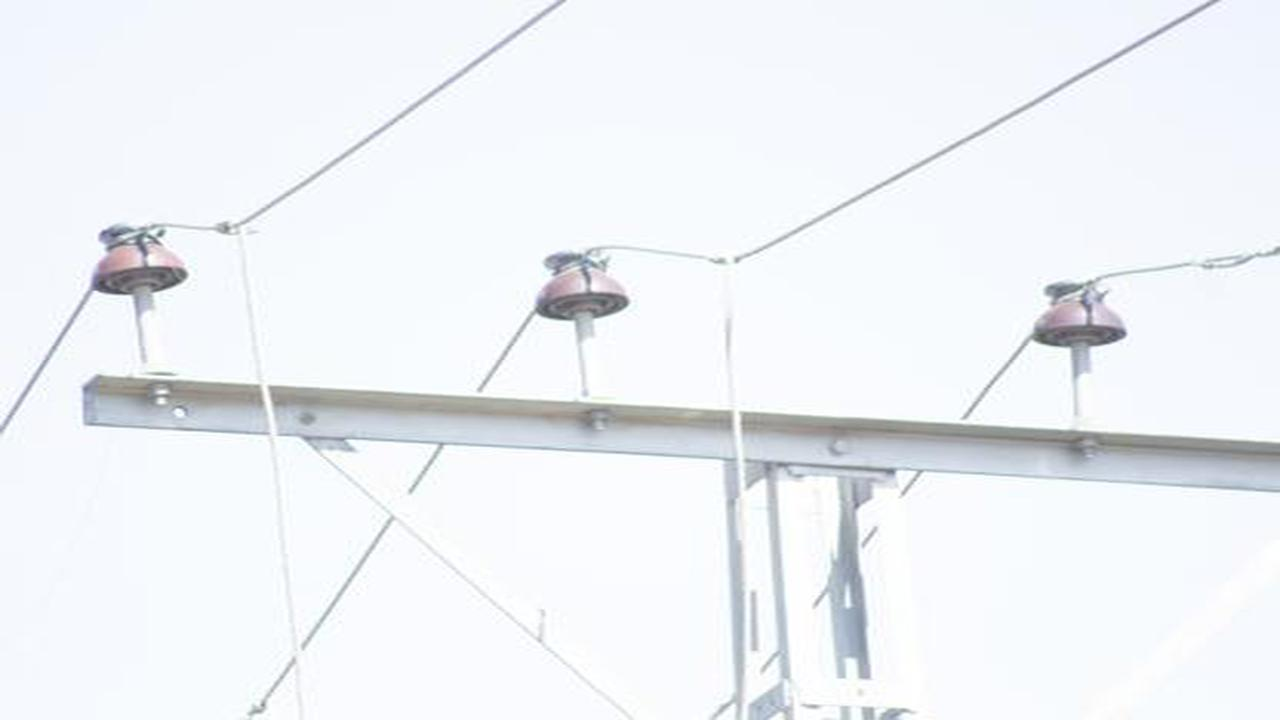insulator_pin: (525, 247, 633, 328), (1029, 275, 1132, 352), (88, 219, 189, 294)
